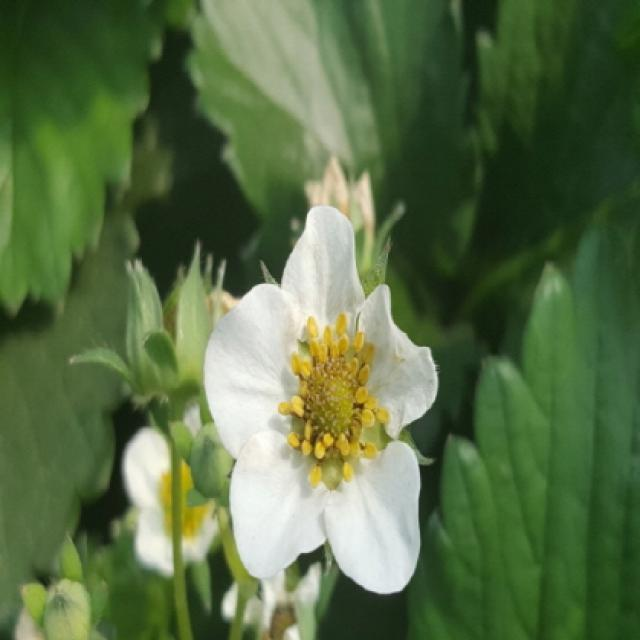Blossom Blight: (273, 308, 395, 494)
